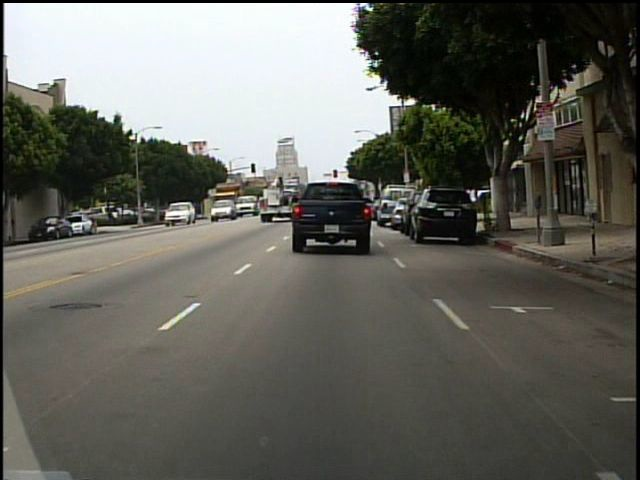person: (467, 185, 481, 223)
